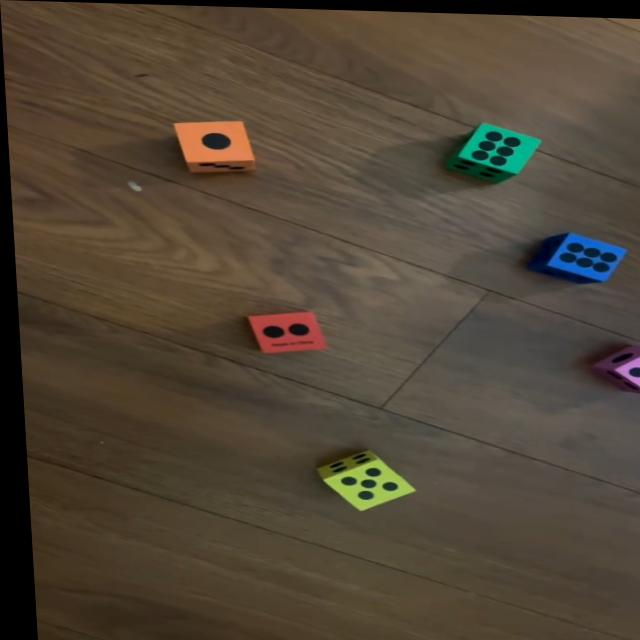blue_block: (524, 229, 625, 280)
red_block: (243, 305, 323, 355)
